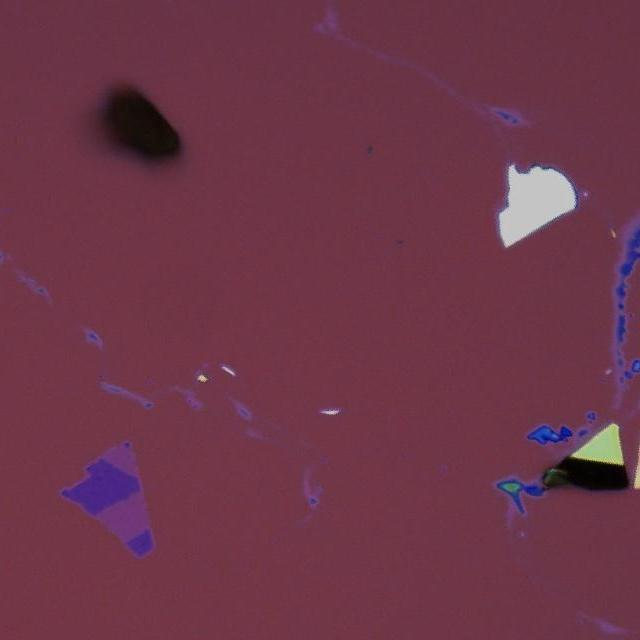monolayer-eWW4: (88, 492, 146, 542), (100, 442, 138, 474)
